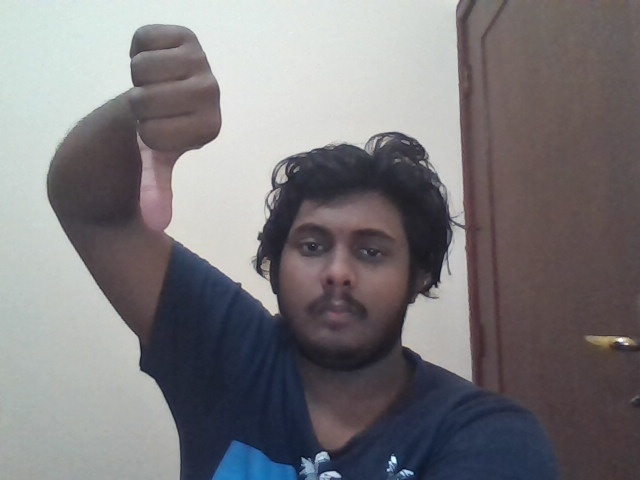thumbsdown: (128, 23, 220, 232)
